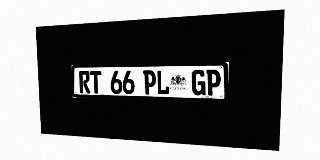6: (122, 70, 135, 94), (110, 70, 122, 94)
G: (191, 70, 206, 95)
L: (156, 70, 169, 95)
P: (206, 69, 221, 96), (143, 70, 156, 94)
R: (79, 71, 90, 93)
T: (90, 71, 102, 93)
